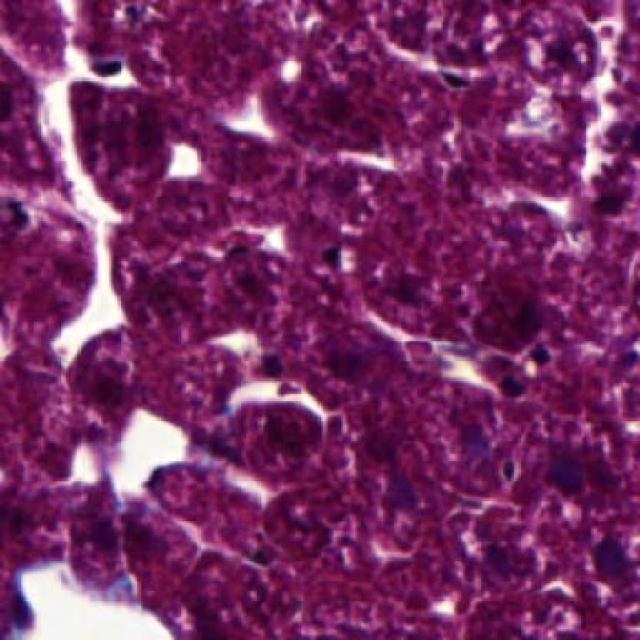inflammation: (211, 370, 336, 478), (511, 15, 613, 91)
